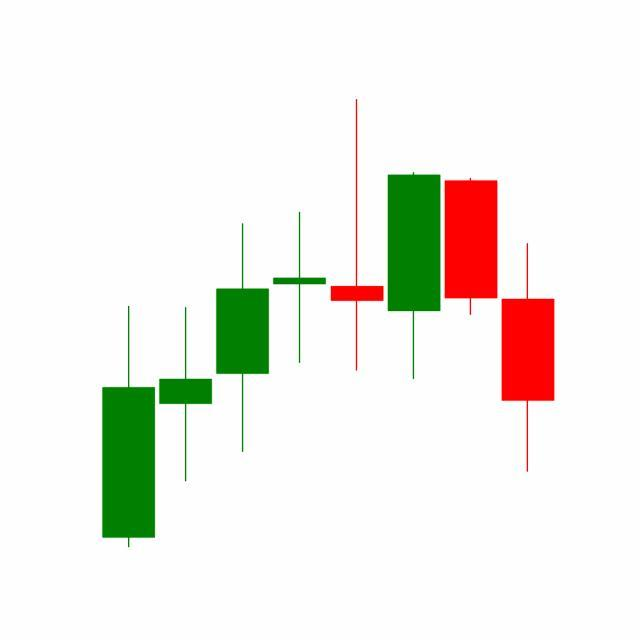Hikkake Pattern: (270, 99, 555, 477)
